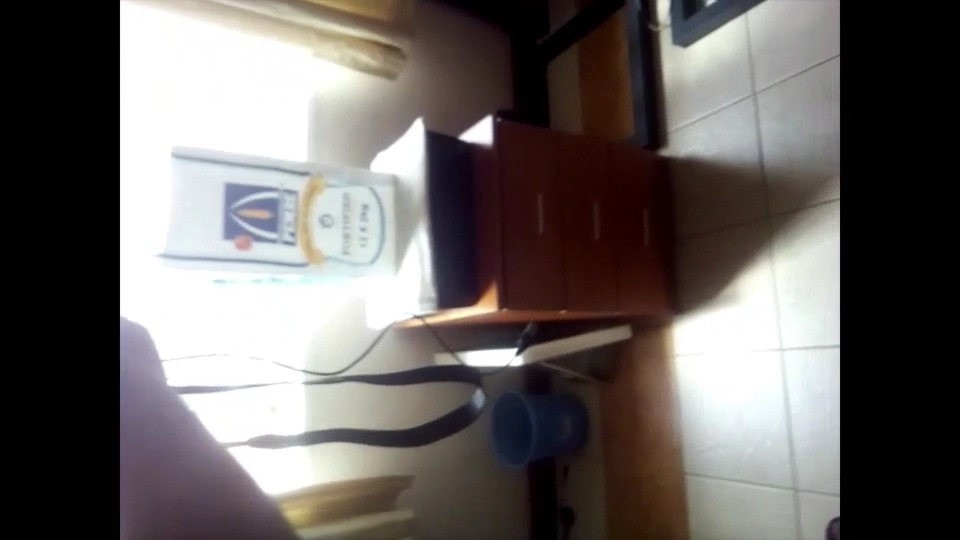wheat_flour_blue_label: (158, 144, 405, 288)
